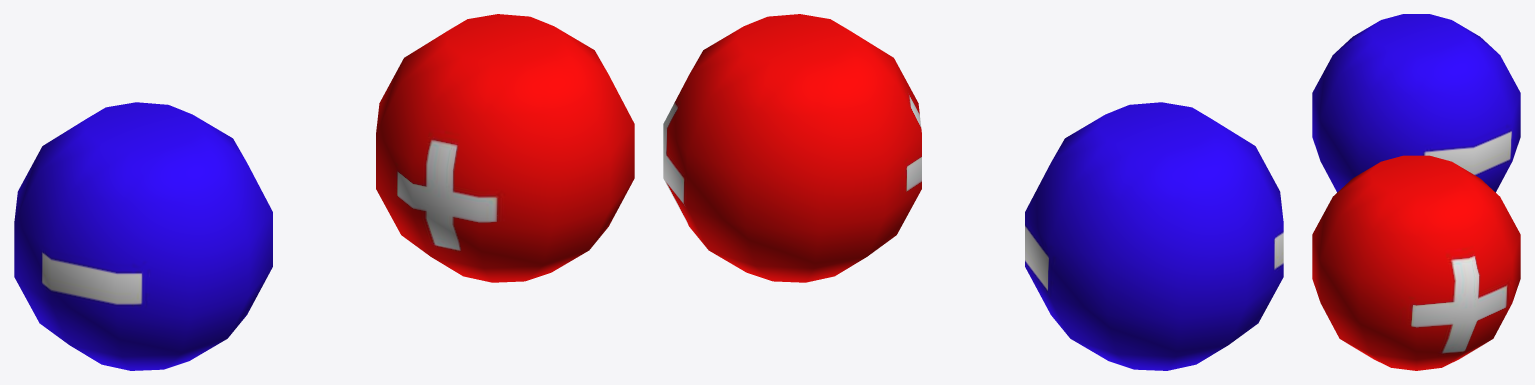
File: plus mines.fbx
3 views of the same model, side by side, from view 1: azimuth 30°, elevation 25°; view 2: azimuth 150°, elevation 25°; view 3: azimuth 270°, elevation 25° (orthographic). The views are drawn at different scales.
Visible parts, largest first — view 1: nep3, nep1; view 2: nep3, nep1; view 3: nep3, nep1.
Part boxes in pixels (left/top/right/bottom): nep3: left=376, top=14, right=634, bottom=282; nep1: left=14, top=102, right=272, bottom=370; nep3: left=663, top=14, right=921, bottom=282; nep1: left=1025, top=102, right=1283, bottom=370; nep3: left=1312, top=155, right=1520, bottom=370; nep1: left=1312, top=14, right=1520, bottom=192.
Bounding box in the file's own units: 217 × 78.18 × 83.74.
1 material, 1 textured.
